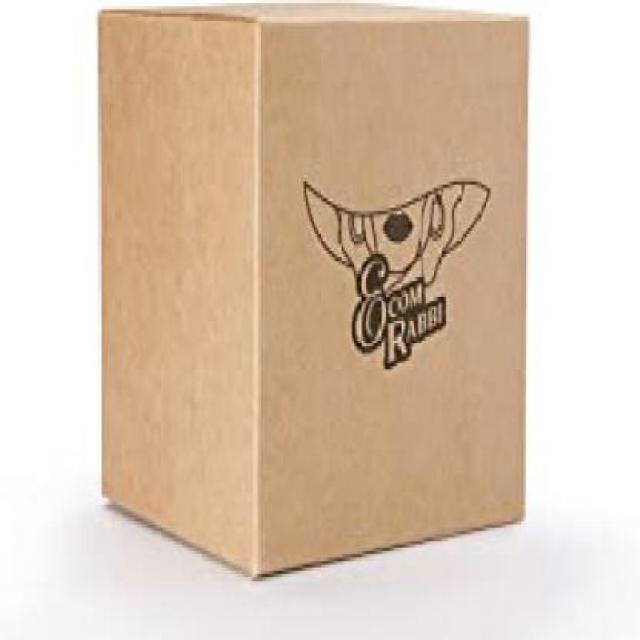box: (91, 9, 528, 580)
